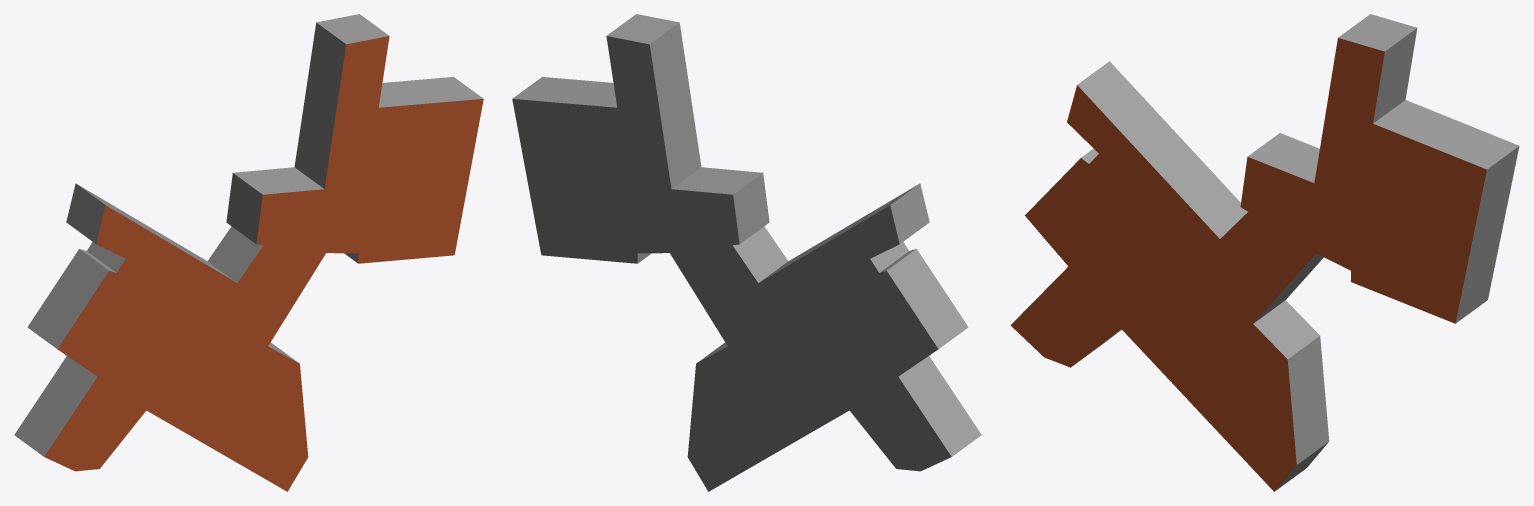
File: construction_6620_assumed_A_Casa_h6m.obj
3 views of the same model, side by side, from view 1: azimuth 30°, elevation 25°; view 2: azimuth 150°, elevation 25°; view 3: azimuth 330°, elevation 25° (orthographic). The views are drawn at different scales.
Visible parts, largest first — view 1: construction_6620_assumed_A_Casa; view 2: construction_6620_assumed_A_Casa; view 3: construction_6620_assumed_A_Casa.
Boxes of the visible parts, bbox=[...] form: construction_6620_assumed_A_Casa: bbox=[14, 14, 483, 491]; construction_6620_assumed_A_Casa: bbox=[512, 14, 981, 491]; construction_6620_assumed_A_Casa: bbox=[1010, 14, 1519, 491].
Bounding box in the file's own units: 50.76 × 47.81 × 6.
